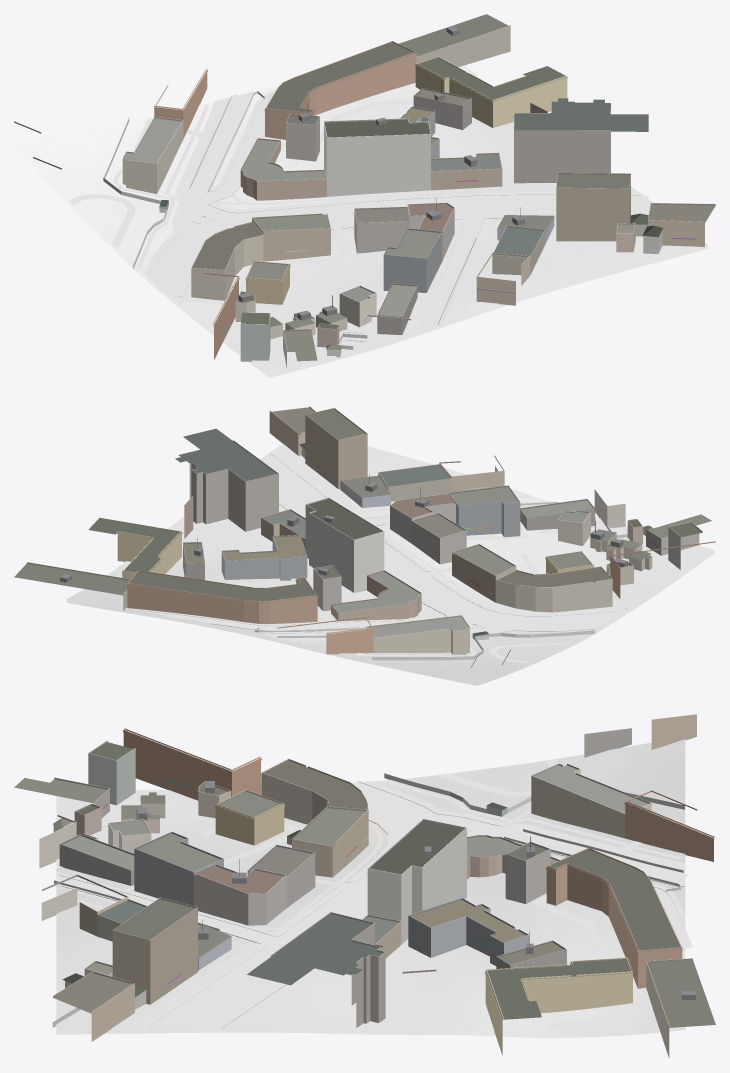
3 renders of one model, top to bottom at view 1: azimuth 30°, elevation 25°; view 2: azimuth 150°, elevation 25°; view 3: azimuth 270°, elevation 25°, orthographic. The views are drawn at different scales.
Parts seen in each view (by area): view 1: t0_2_-6; view 2: t0_2_-6; view 3: t0_2_-6.
Boxes of the visible parts, <box> form: t0_2_-6: <box>14,14,715,377</box>; t0_2_-6: <box>14,406,715,685</box>; t0_2_-6: <box>14,714,715,1058</box>.
Bounding box in the file's own units: 302 × 47.46 × 286.
